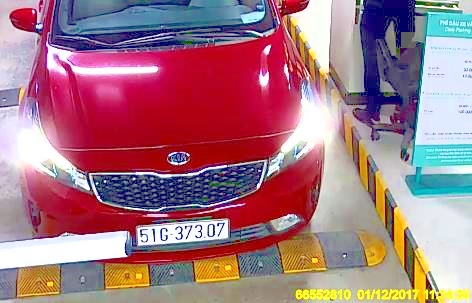plate: (130, 218, 236, 246)
